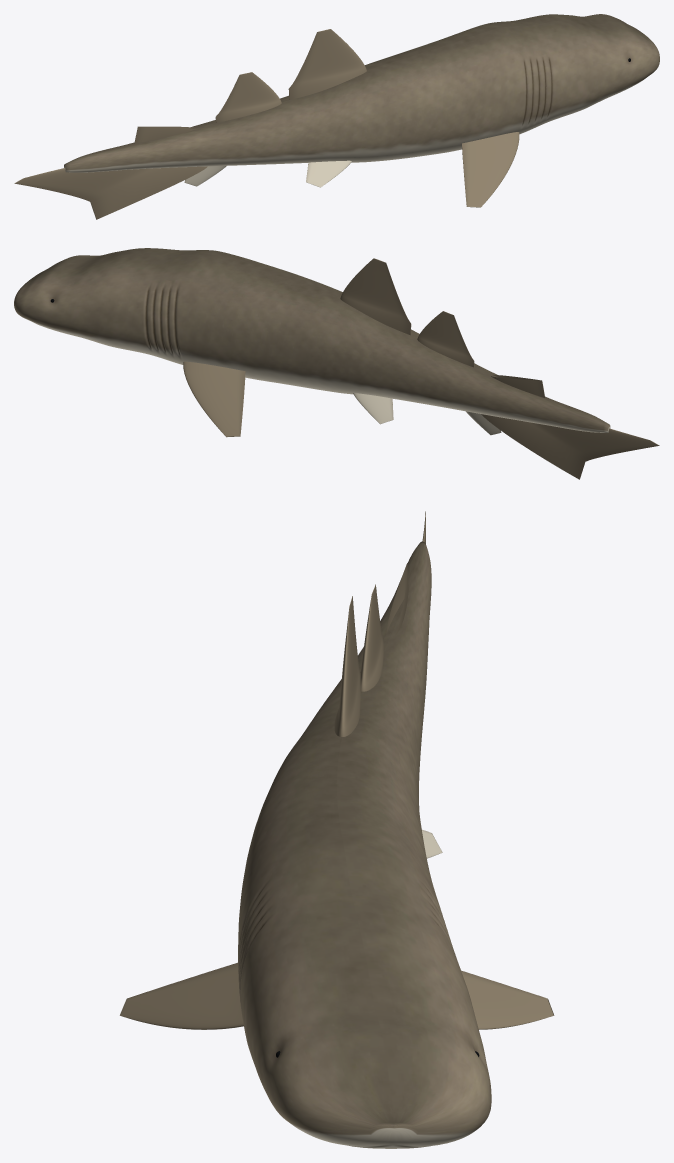
File: tawny_nurse_shark.glb
3 renders of one model, top to bottom at view 1: azimuth 30°, elevation 25°; view 2: azimuth 150°, elevation 25°; view 3: azimuth 270°, elevation 25°, orthographic. The views are drawn at different scales.
Visible parts, largest first — view 1: TawnyNurseShark_Body, TawnyNurseShark_Fins; view 2: TawnyNurseShark_Body, TawnyNurseShark_Fins; view 3: TawnyNurseShark_Body, TawnyNurseShark_Fins.
Boxes of the visible parts, <box> form: TawnyNurseShark_Body: <box>64,14,659,172</box>; TawnyNurseShark_Fins: <box>14,29,519,219</box>; TawnyNurseShark_Body: <box>14,248,610,432</box>; TawnyNurseShark_Fins: <box>183,258,659,479</box>; TawnyNurseShark_Body: <box>238,541,491,1148</box>; TawnyNurseShark_Fins: <box>119,511,554,1029</box>.
Bounding box in the file's own units: 2.5 × 0.6077 × 0.751.
Materials: 3 (1 with a texture image).
